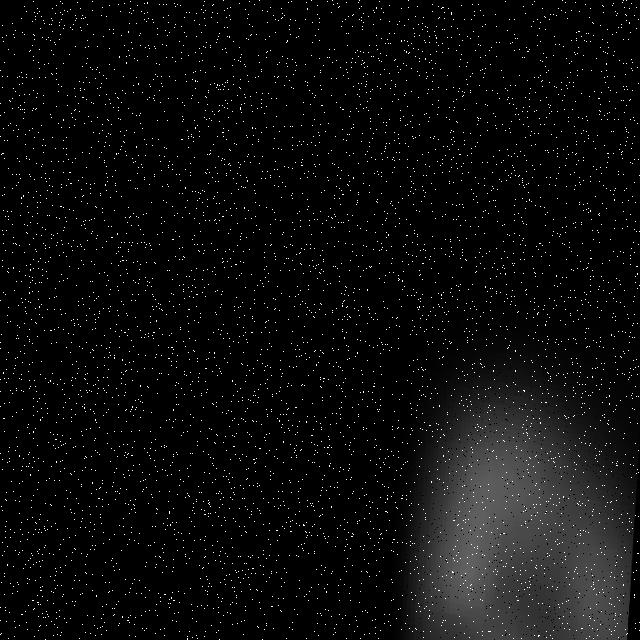person: (367, 262, 640, 640)
